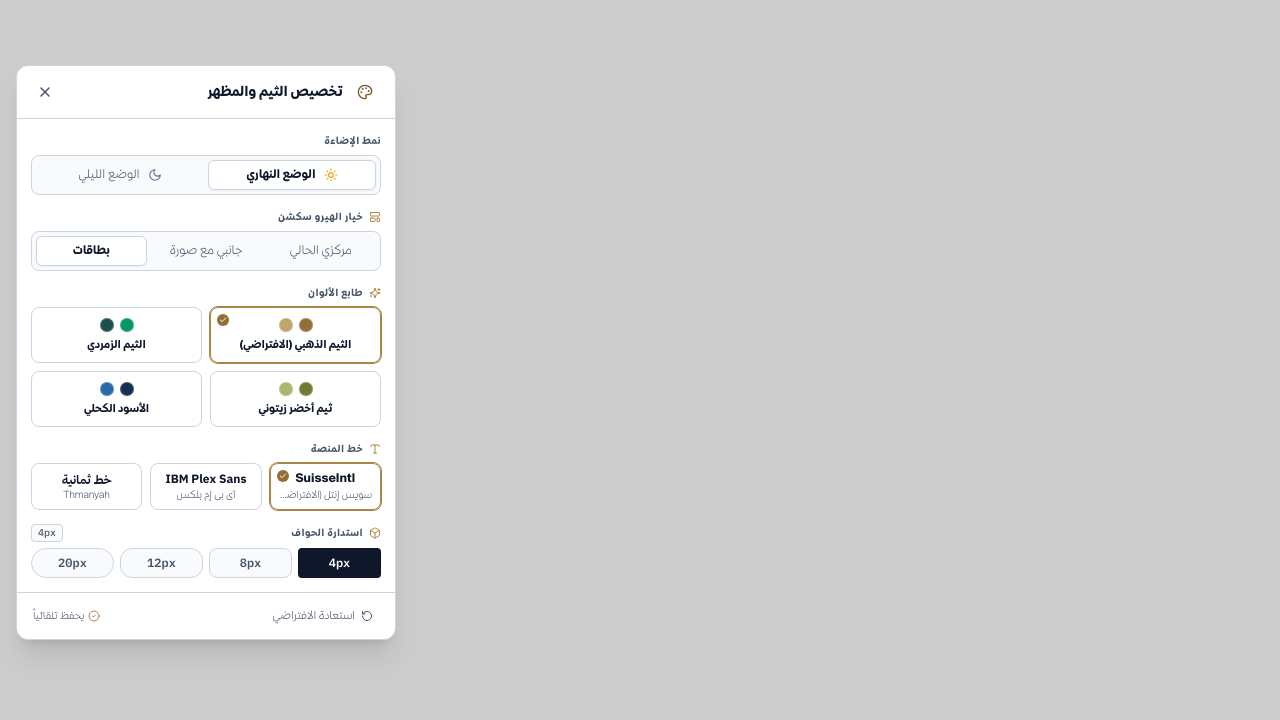
Scenario: Theme Customizer Component & Store › allows changing border radius and resets defaults
This screenshot has width=1280, height=720.
Click the button "8px" at (250, 563), box [209,548,292,578]
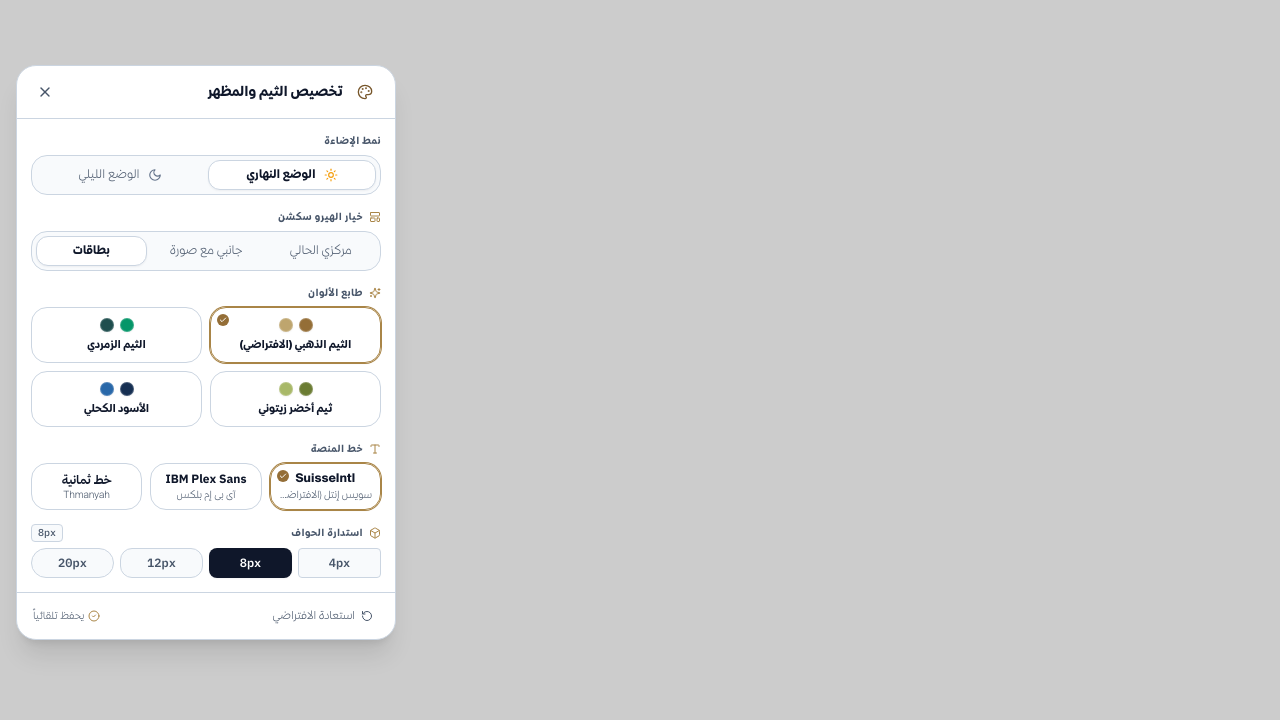
expect the text "8px" is shown: met, box [31,524,63,542]
Click the button "استعادة الافتراضي" at (323, 616), box [266,603,379,629]
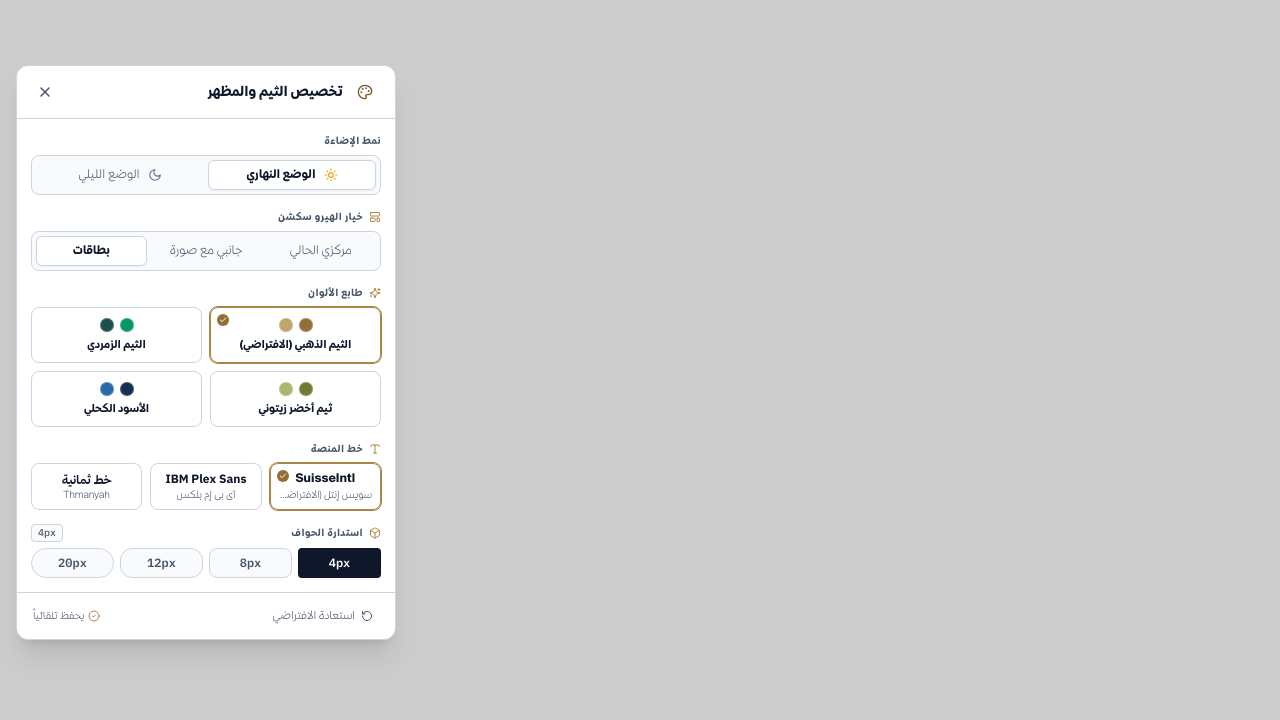
expect the text "4px" is shown: met, box [31,524,63,542]
